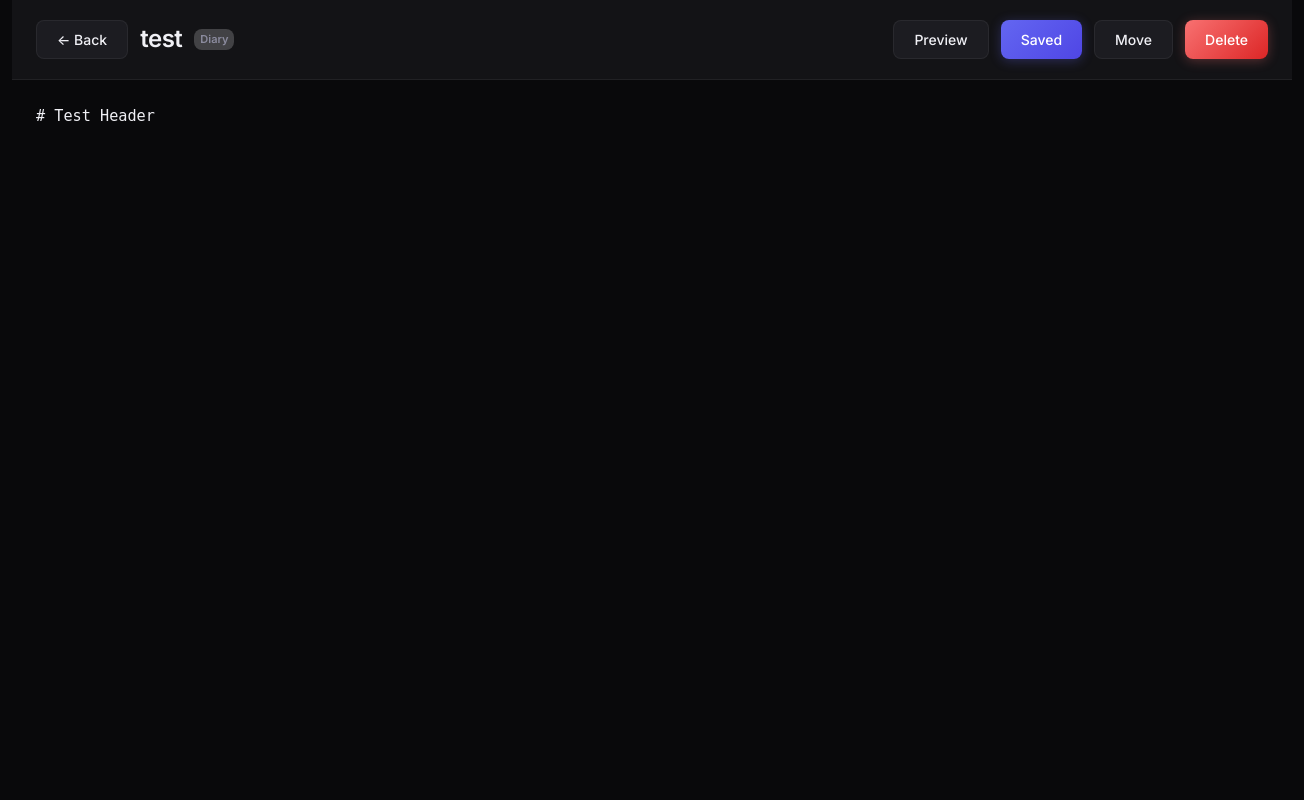
Test: NoteEditor Component › Preview Mode › toggles between edit and preview mode
The width and height of the screenshot is (1304, 800).
Note: Click preview button
Click the button "Preview" at [941, 40], box left=893, top=20, right=989, bottom=59
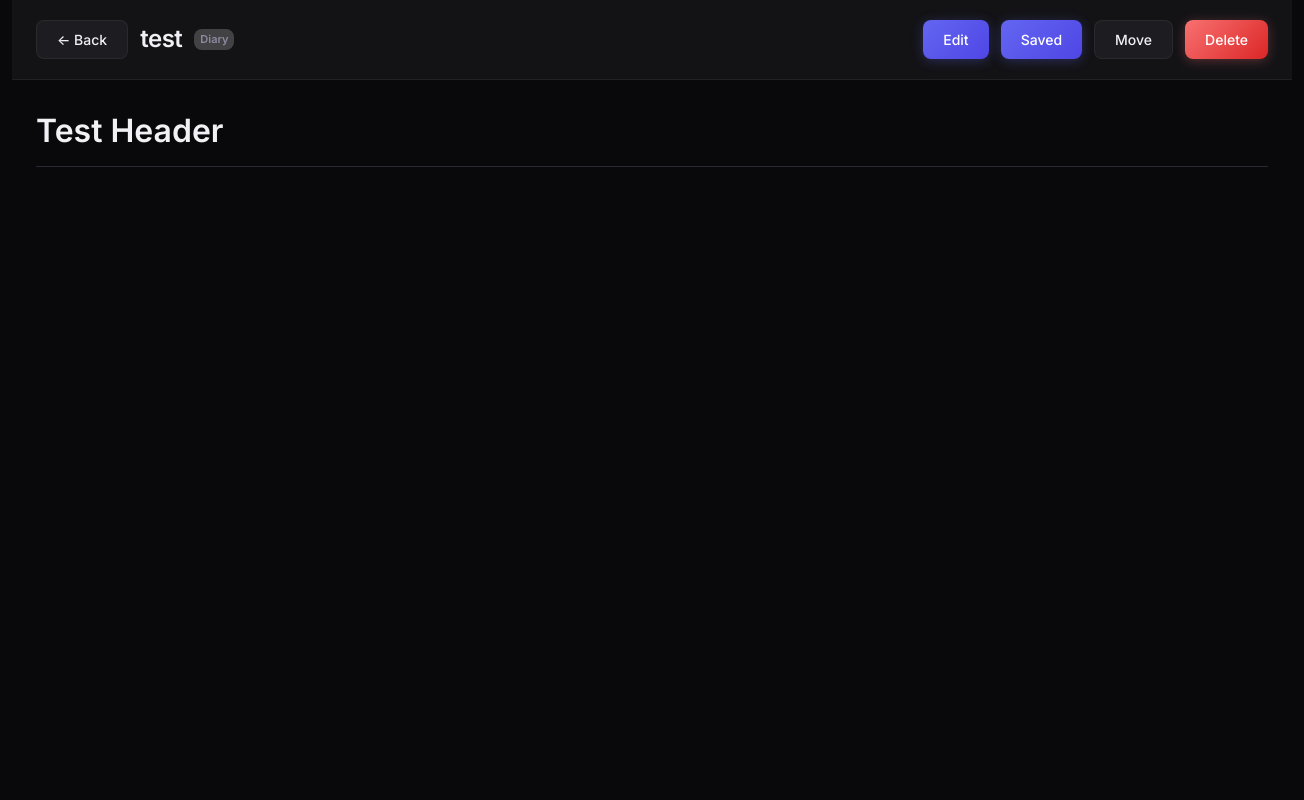
Expected: the field showing "# Test Header" is not shown
Now the button "Edit" is shown, box left=923, top=20, right=989, bottom=59
